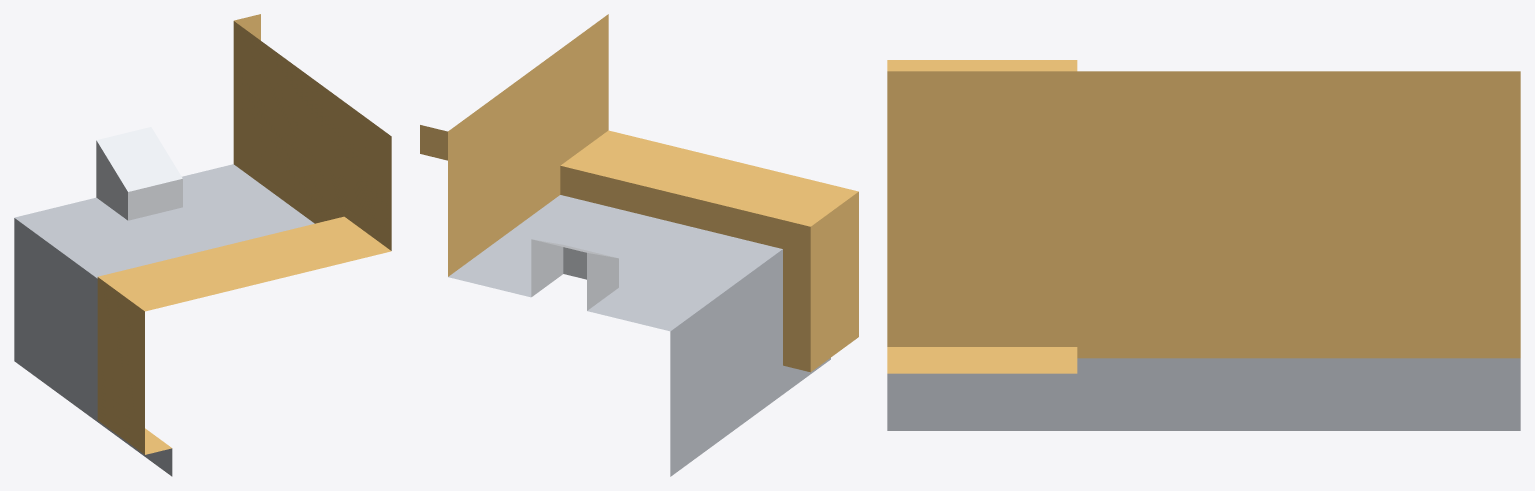
The picture shows the model from 3 angles, left to right: view 1: azimuth 30°, elevation 25°; view 2: azimuth 150°, elevation 25°; view 3: azimuth 270°, elevation 25°; orthographic projection. The views are drawn at different scales.
Size of the model in its own units: 1 by 1 by 1.
